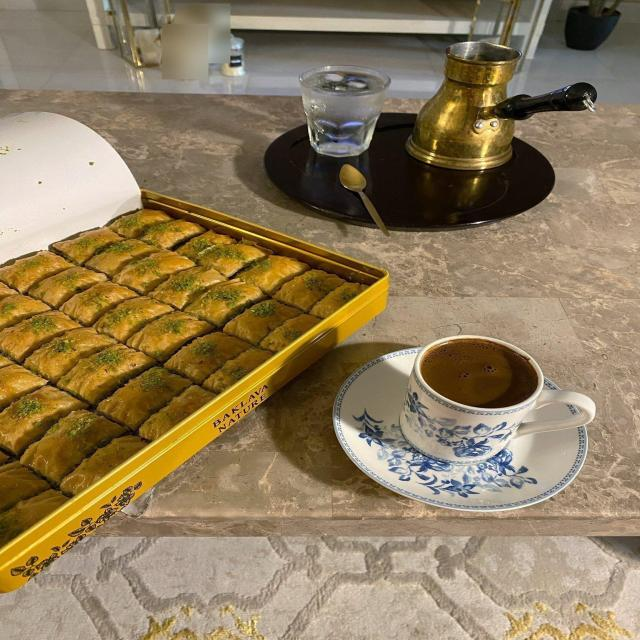cup-handle: (398, 334, 596, 464)
glass-normal: (298, 64, 392, 159)
